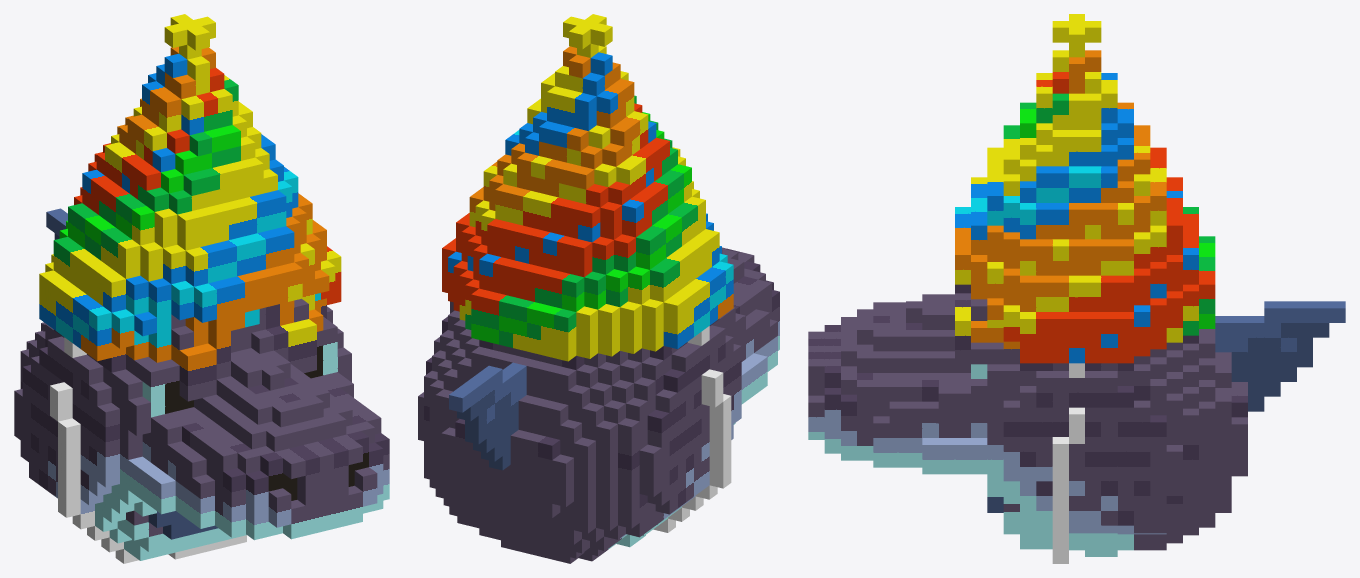
The model's file is birthday hat_eye patch.gltf.
The picture shows the model from 3 angles, left to right: view 1: azimuth 30°, elevation 25°; view 2: azimuth 150°, elevation 25°; view 3: azimuth 270°, elevation 25°; orthographic projection. The views are drawn at different scales.
Visible parts, largest first — view 1: C06_H_BirthdayH_EyeP-Mesh; view 2: C06_H_BirthdayH_EyeP-Mesh; view 3: C06_H_BirthdayH_EyeP-Mesh.
Part boxes in pixels (x1,y1,x2,y2): C06_H_BirthdayH_EyeP-Mesh: (14,14,389,563); C06_H_BirthdayH_EyeP-Mesh: (418,14,779,563); C06_H_BirthdayH_EyeP-Mesh: (808,14,1345,563).
Bounding box in the file's own units: 19 × 34 × 33.
1 material, 1 textured.
